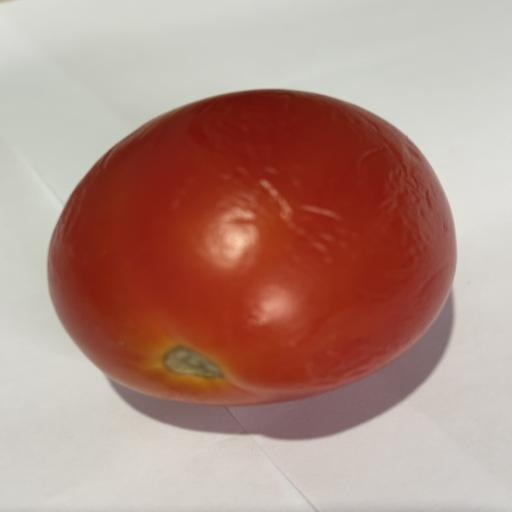spoiled: (48, 90, 456, 405)
